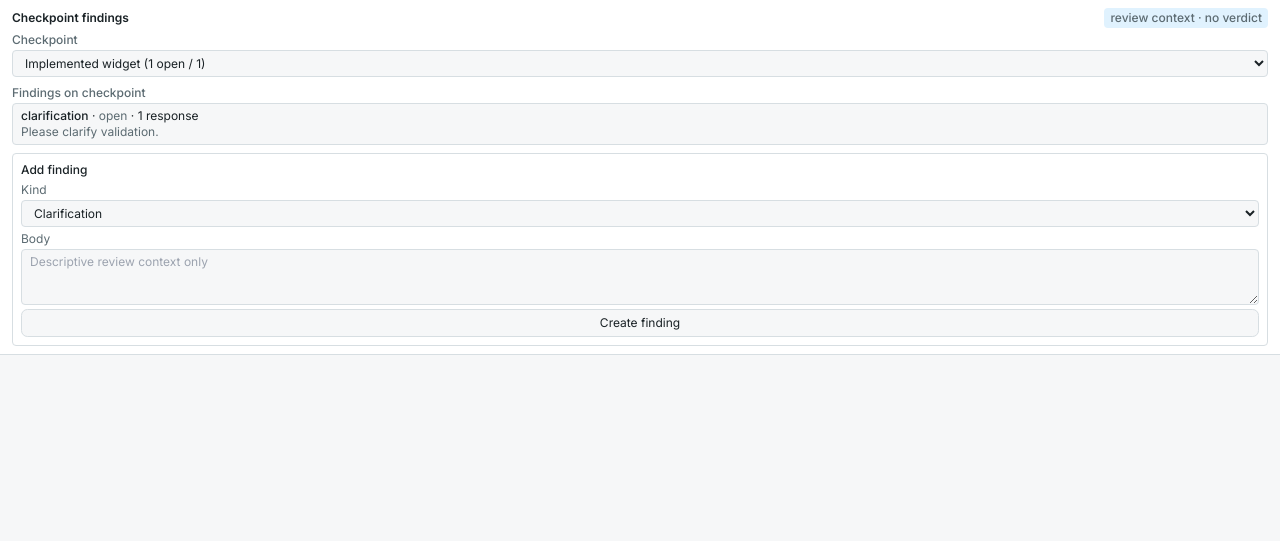
Test: CheckpointFindingsPanel behavior › displays chronological human finding and agent response in the thread
The width and height of the screenshot is (1280, 541).
Expected: the text "Please clarify validation." is shown, 21,124 -> 159,139
Step 1. Click the button "clarification · open · 1 response Please clarify validation." → click(55, 116), box 12,103 -> 1268,145
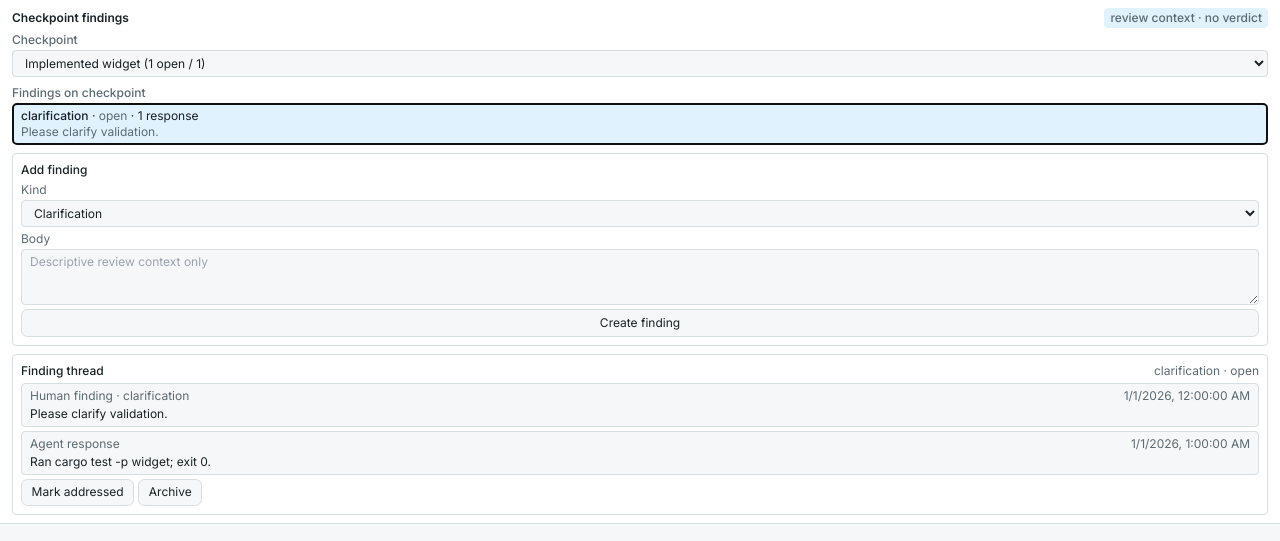
Expected: the text "Finding thread" is shown, 21,363 -> 104,379
Expected: the text "Human finding · clarification" is shown, 30,388 -> 189,404
Expected: the text "Agent response" is shown, 30,436 -> 120,452
